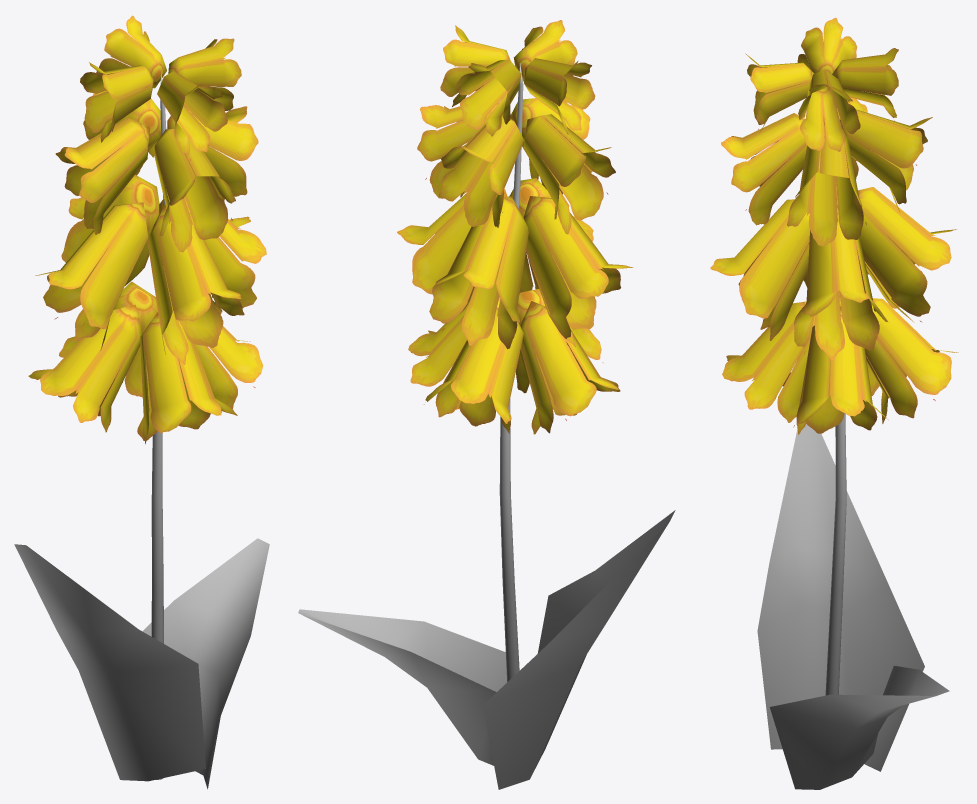
File: Flower_Single_2.gltf
3 renders of one model, left to right at view 1: azimuth 30°, elevation 25°; view 2: azimuth 150°, elevation 25°; view 3: azimuth 270°, elevation 25°, orthographic.
Parts seen in each view (by area): view 1: Flower_4_Single; view 2: Flower_4_Single; view 3: Flower_4_Single.
Part boxes in pixels (bbox=[...]): Flower_4_Single: bbox=[14, 15, 269, 789]; Flower_4_Single: bbox=[298, 20, 675, 789]; Flower_4_Single: bbox=[710, 17, 958, 789].
Bounding box in the file's own units: 1.07 × 2.42 × 0.7729.
